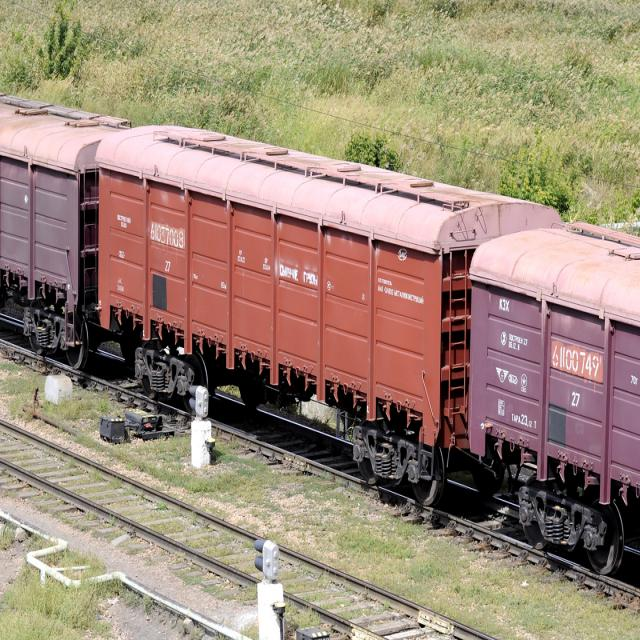boxcar: (86, 52, 560, 511), (457, 175, 640, 598), (0, 63, 123, 370)
